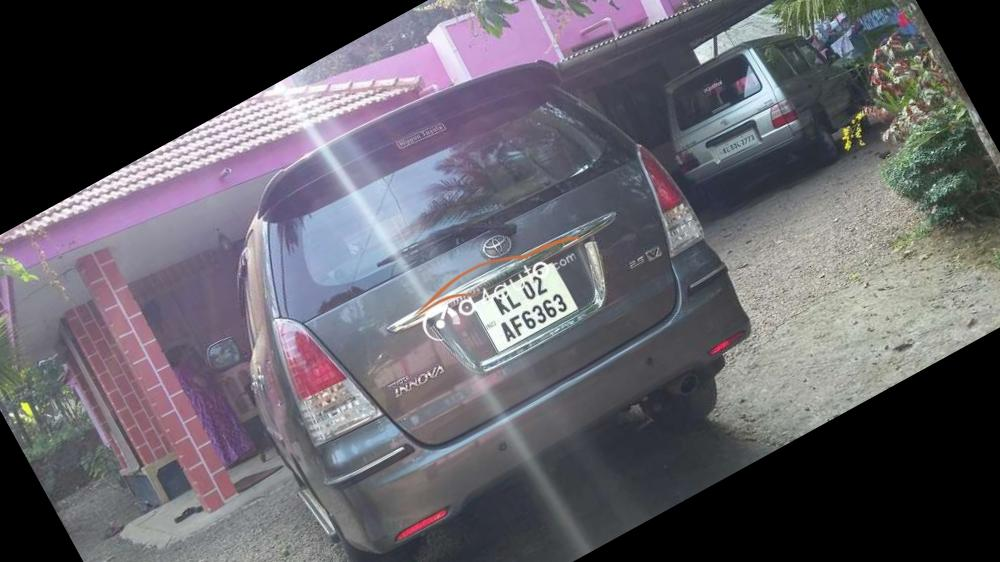plate: (454, 244, 595, 370)
